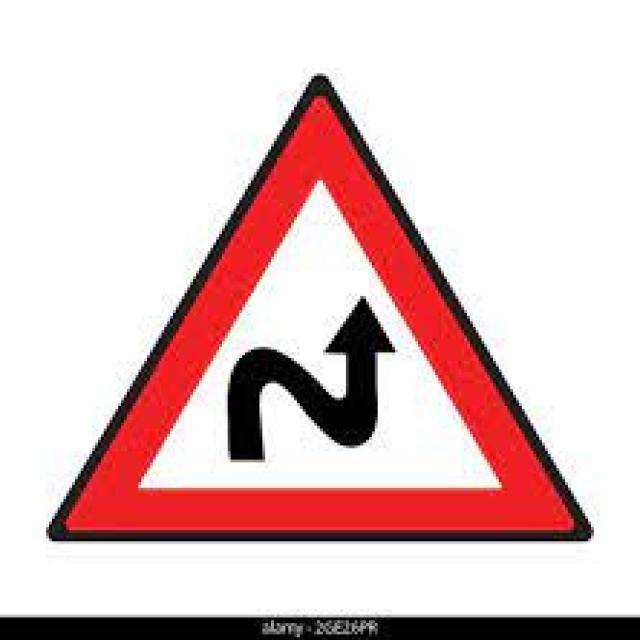right reverse bend: (43, 69, 599, 543)
